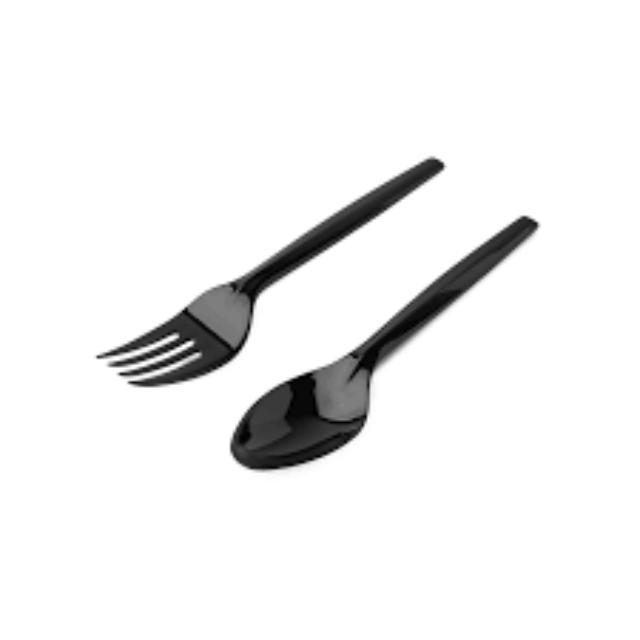Plastico descartable: (96, 159, 446, 390), (229, 216, 541, 473)
